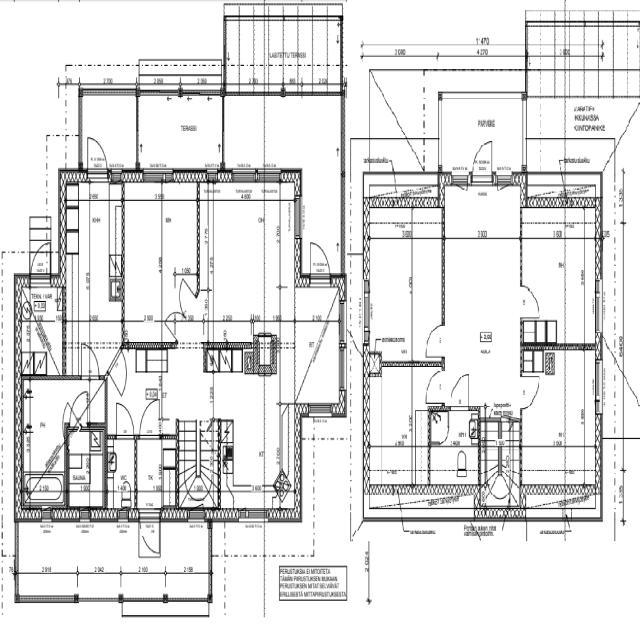door: (448, 368, 473, 413), (138, 513, 163, 558), (306, 239, 333, 280), (138, 392, 161, 438), (470, 139, 494, 183), (111, 352, 128, 412), (86, 133, 109, 177), (111, 399, 136, 439), (518, 281, 542, 322), (82, 344, 101, 393), (520, 372, 542, 411), (424, 322, 446, 356), (425, 367, 444, 405), (448, 166, 470, 197)
window: (522, 505, 574, 535), (72, 589, 126, 609), (233, 500, 268, 526), (593, 358, 607, 408), (204, 552, 216, 601), (9, 554, 21, 596), (116, 515, 129, 532)
zone: (441, 228, 521, 408), (519, 348, 602, 512), (208, 178, 296, 328), (363, 230, 443, 364), (62, 172, 126, 324), (216, 368, 284, 511), (519, 226, 601, 344), (364, 364, 428, 491), (120, 177, 162, 340), (18, 376, 69, 508), (162, 178, 206, 304), (296, 306, 344, 414), (18, 272, 63, 374), (67, 424, 106, 512), (226, 15, 266, 90), (106, 432, 137, 518), (429, 439, 478, 485)
